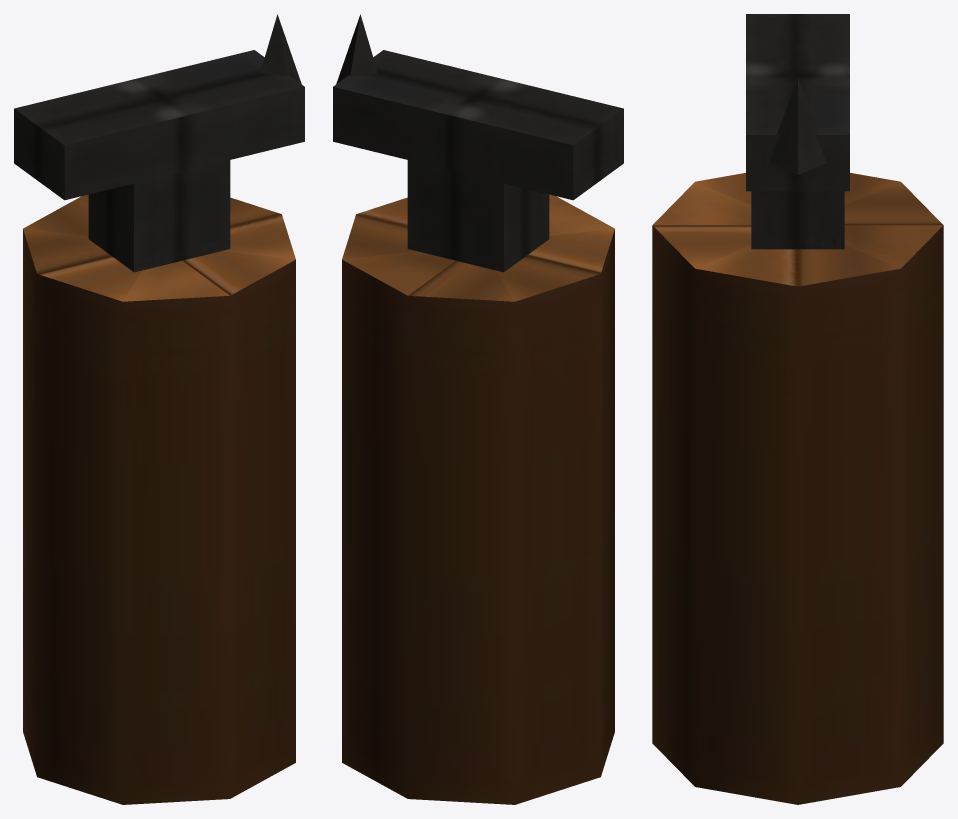
Rendered from anvil.glb.
3 renders of one model, left to right at view 1: azimuth 30°, elevation 25°; view 2: azimuth 150°, elevation 25°; view 3: azimuth 270°, elevation 25°, orthographic. The views are drawn at different scales.
Parts seen in each view (by area): view 1: props_0_0; view 2: props_0_0; view 3: props_0_0.
Part boxes in pixels (left/top/right/bottom): props_0_0: left=14, top=14, right=304, bottom=804; props_0_0: left=333, top=14, right=623, bottom=804; props_0_0: left=652, top=14, right=943, bottom=804.
Bounding box in the file's own units: 0.61 × 1.54 × 0.56.
2 materials, 2 textured.
